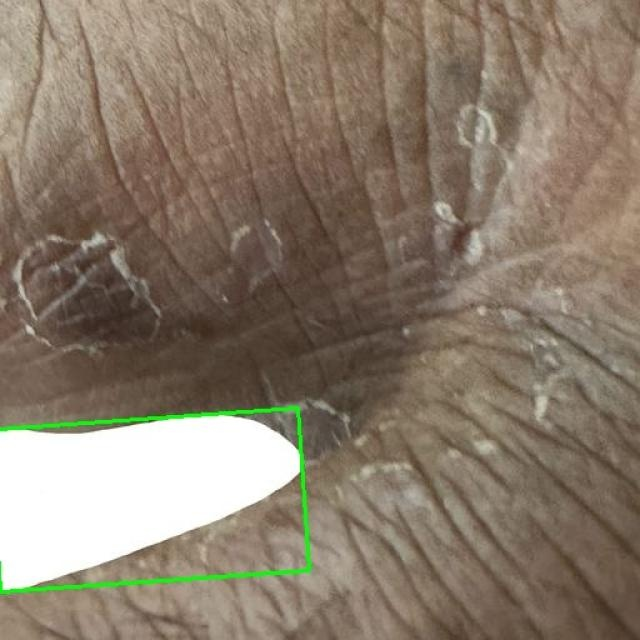Scabies: (0, 408, 310, 592)
